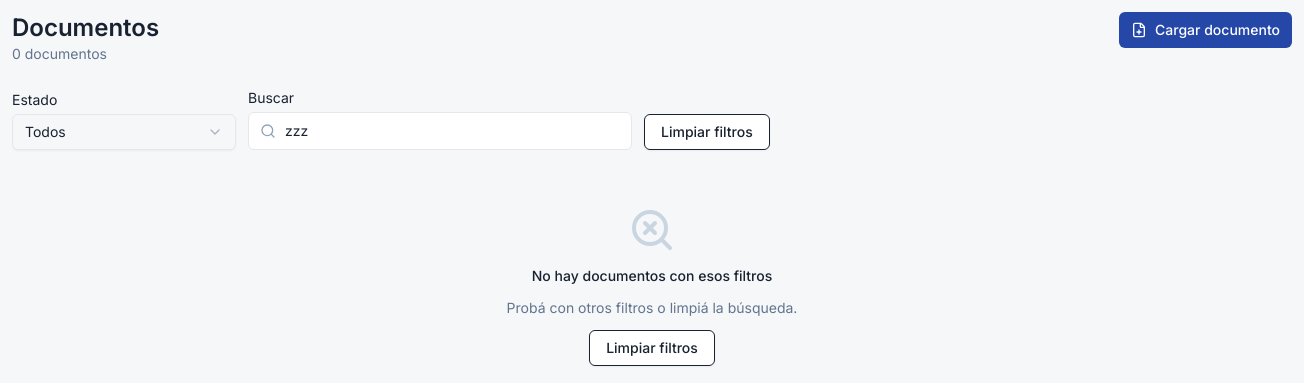
DocumentsPage (S2) › con búsqueda sin resultados muestra no-results y limpiar
Expected: the text "No hay documentos con esos filtros" is shown, [532, 266, 772, 286]
Click the 1st button "Limpiar filtros" at (707, 132), box [644, 114, 770, 150]
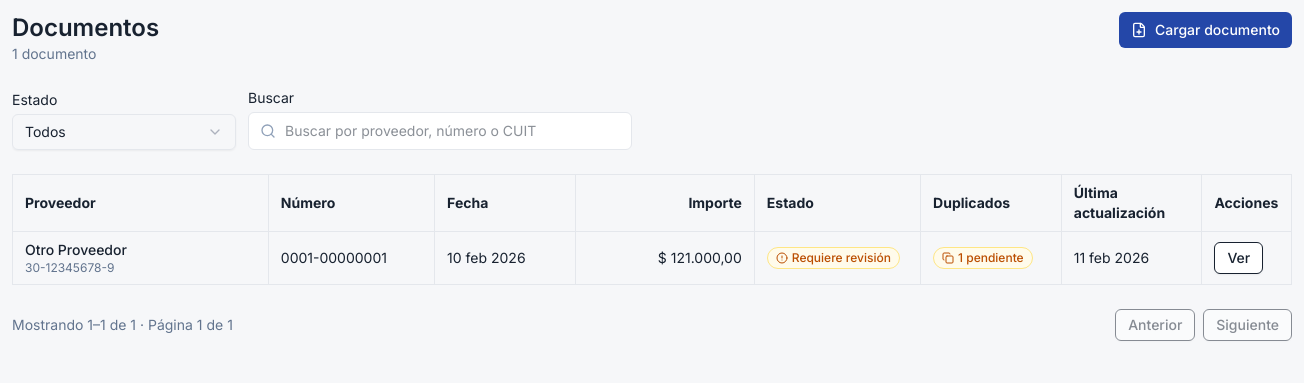
Now the text "Otro Proveedor" is shown, box [25, 241, 127, 258]
